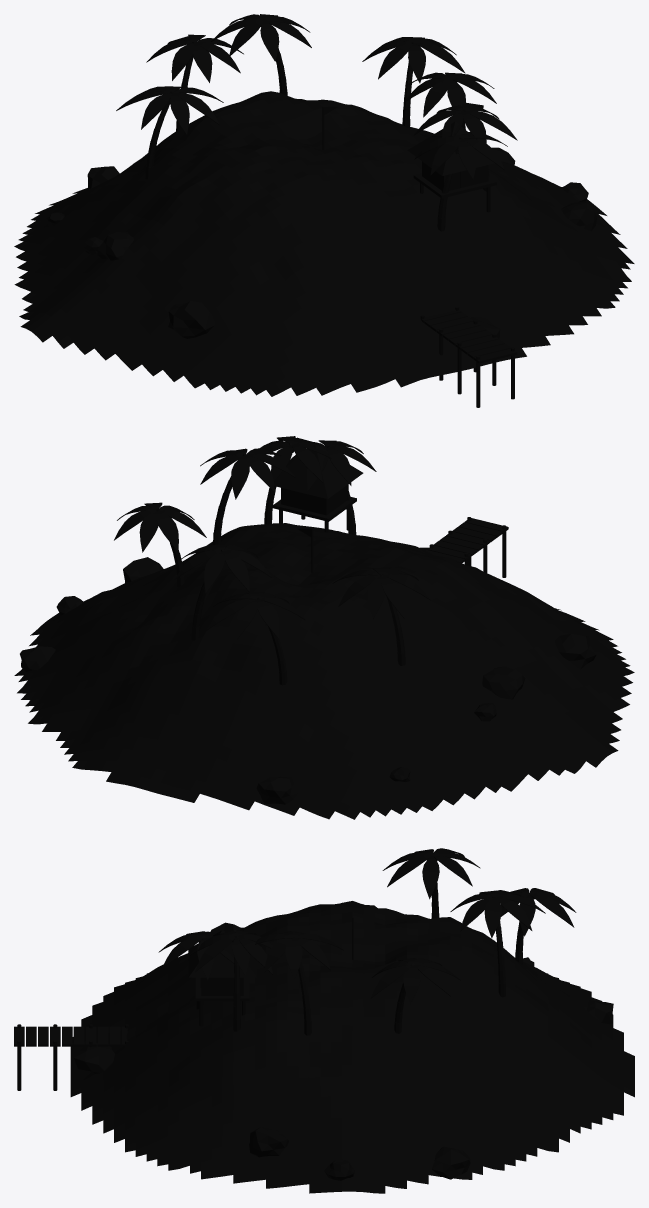
Rendered from turtle_cay.unity-fbx.fbx.
3 views of the same model, one above another, from view 1: azimuth 30°, elevation 25°; view 2: azimuth 150°, elevation 25°; view 3: azimuth 270°, elevation 25° (orthographic). The views are drawn at different scales.
Parts seen in each view (by area): view 1: turtle_cay_mesh; view 2: turtle_cay_mesh; view 3: turtle_cay_mesh.
Part boxes in pixels (left/top/right/bottom): turtle_cay_mesh: left=14, top=14, right=634, bottom=407; turtle_cay_mesh: left=14, top=436, right=634, bottom=819; turtle_cay_mesh: left=14, top=848, right=634, bottom=1193.
Size of the model in its own units: 32.06 by 11.03 by 32.19.
Materials: 1 (1 with a texture image).
